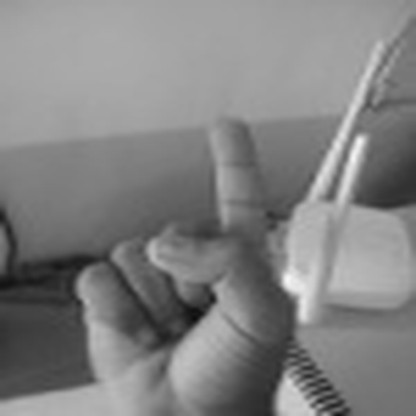d: (66, 116, 298, 415)
